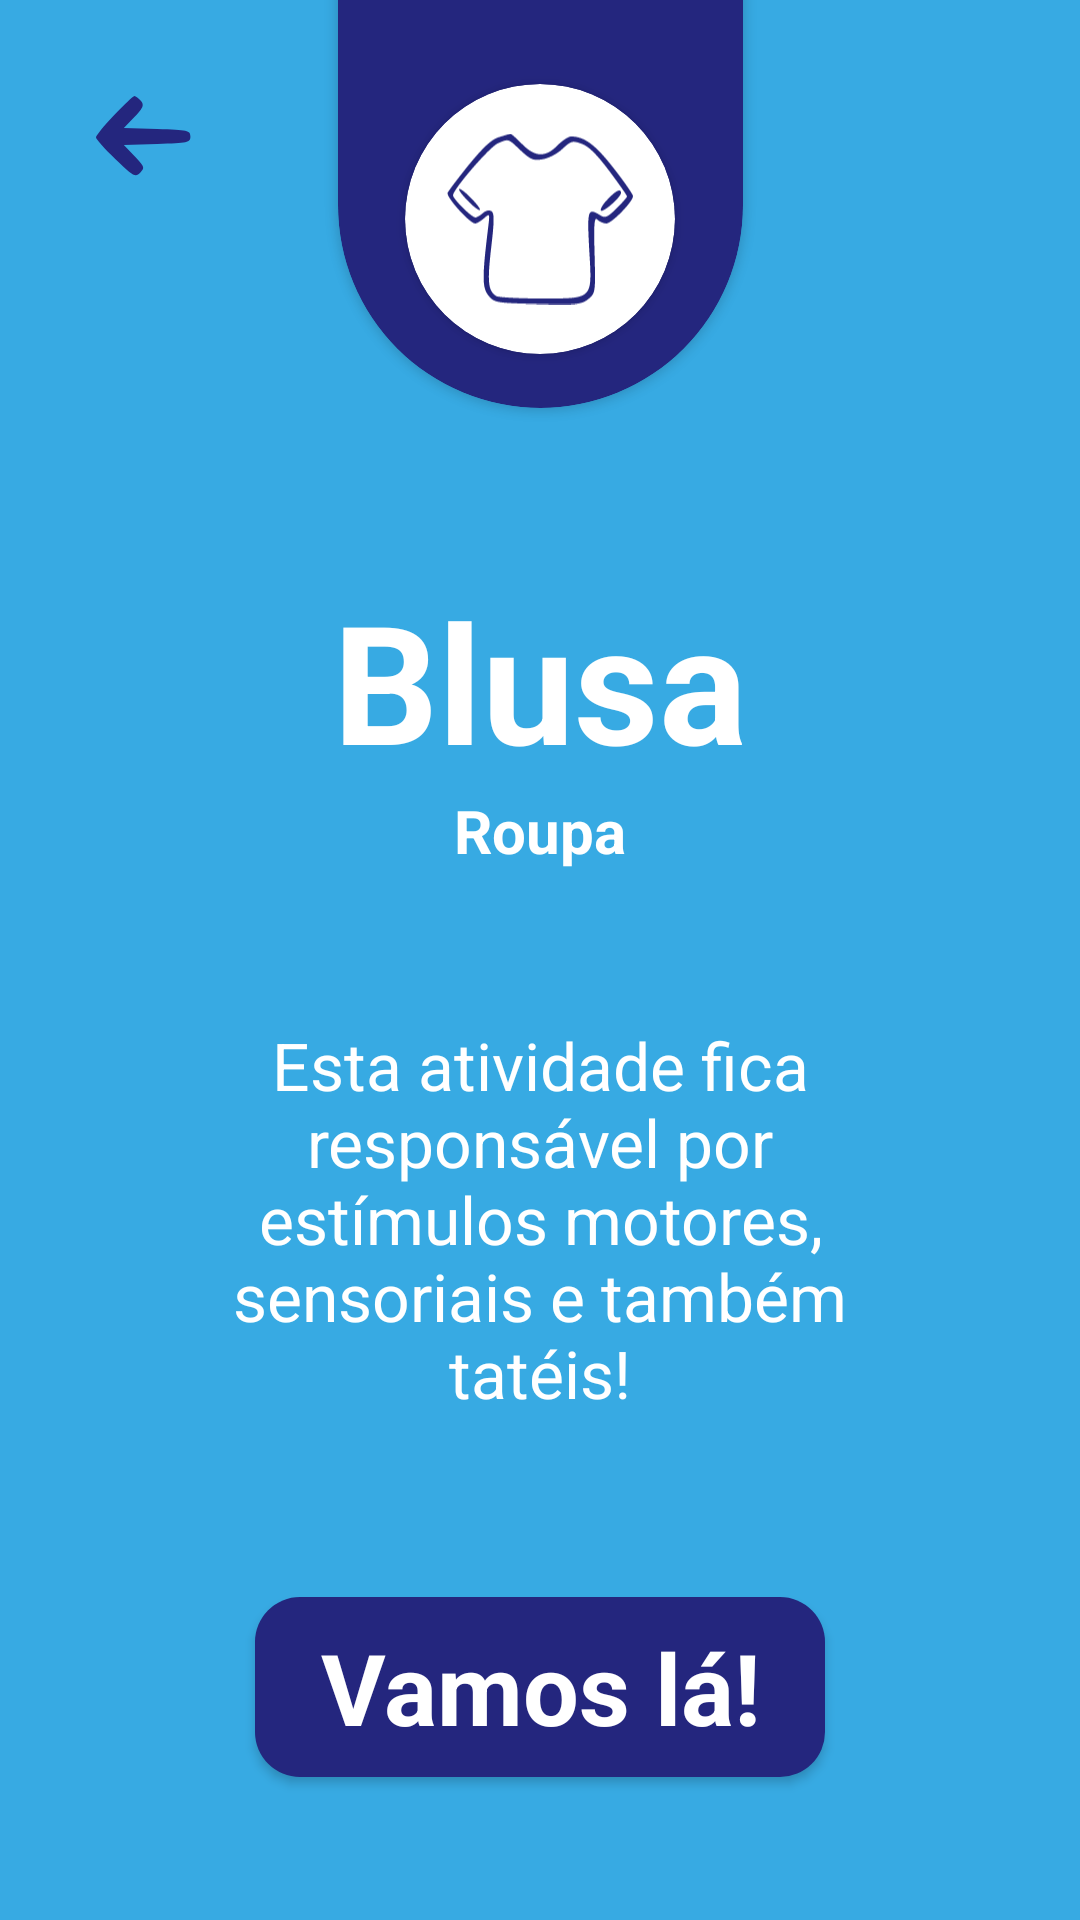

Icons on this 1080px×1920px Android screen, each with the point to tap as (x,y):
arrow: (143,136)
